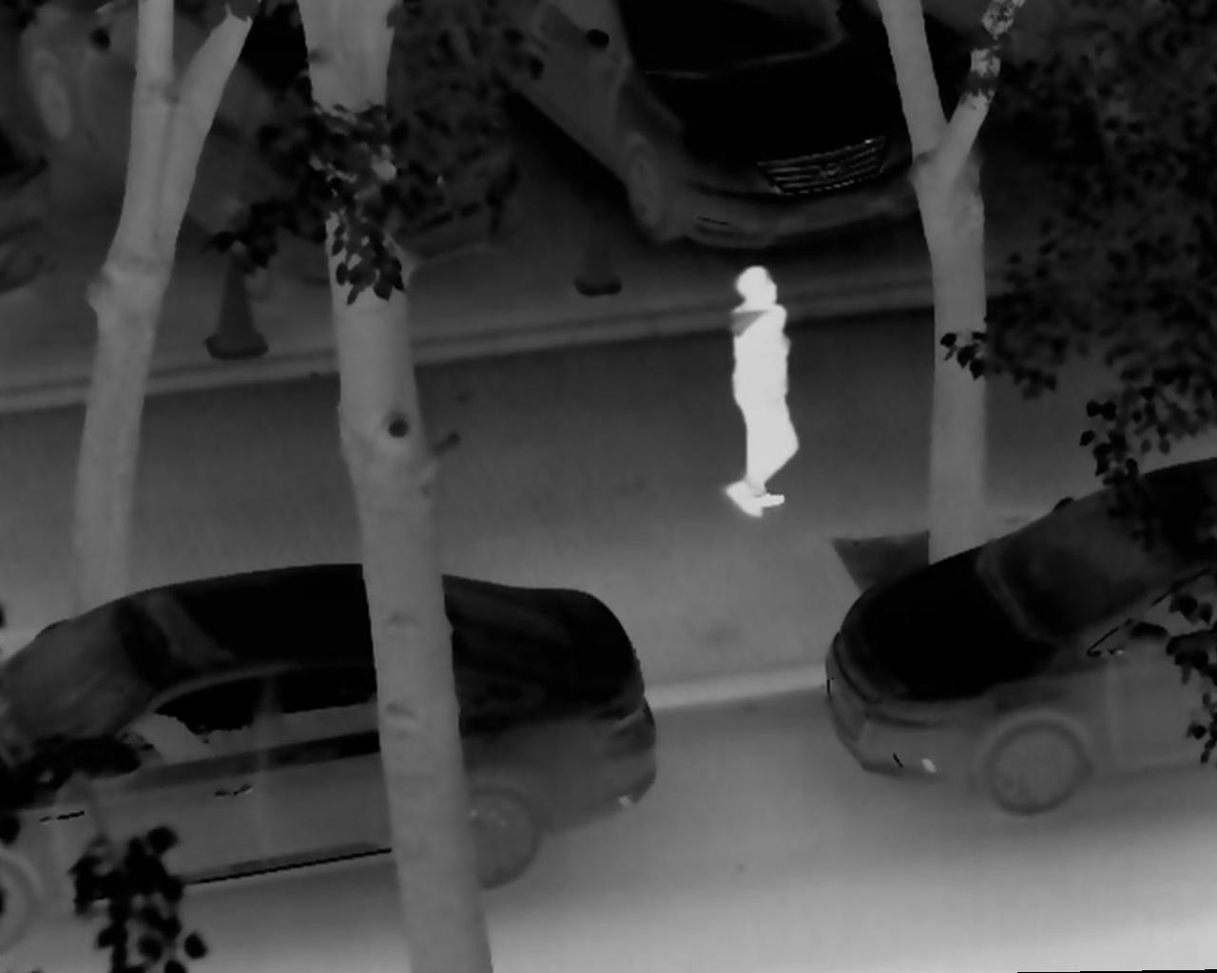person: (717, 264, 799, 523)
